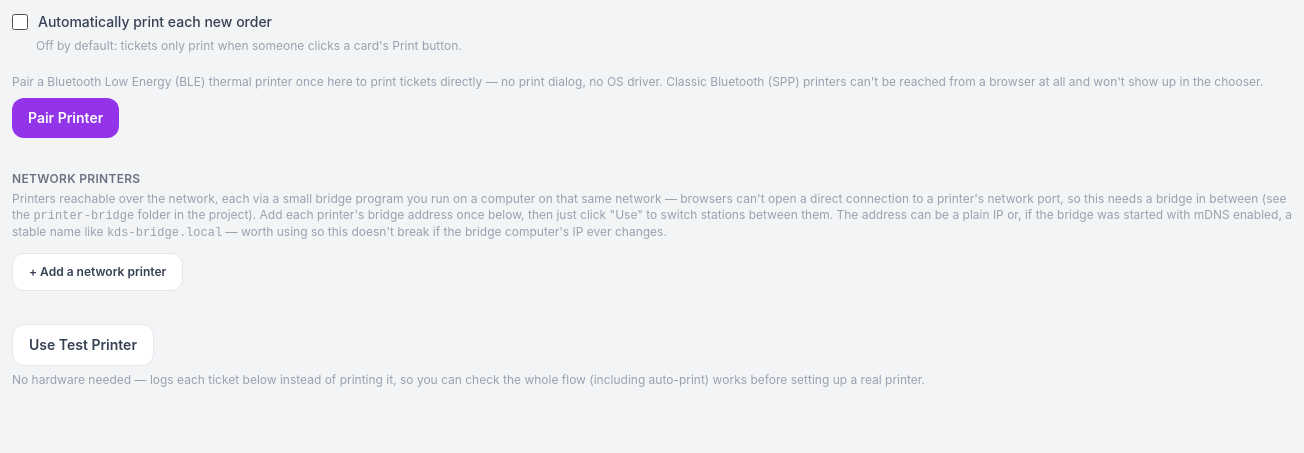
Test: PrinterConfig › shows a real pairing failure as an error message
The width and height of the screenshot is (1304, 453).
Click the button "Pair Printer".
click(66, 118)  # box [12,98,119,138]
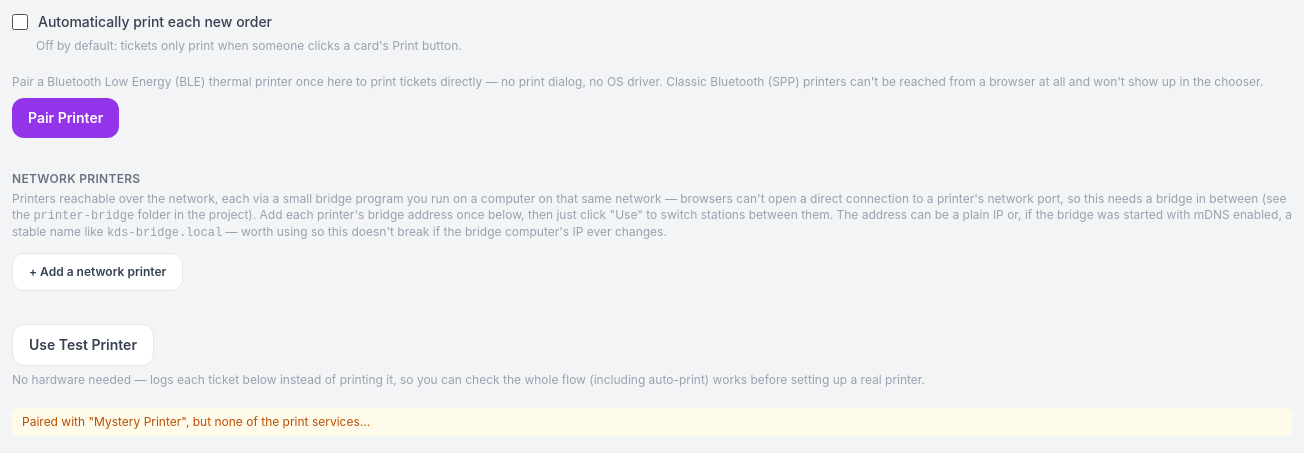
Result: the text "Mystery Printer" is shown at [22,414,370,429]
